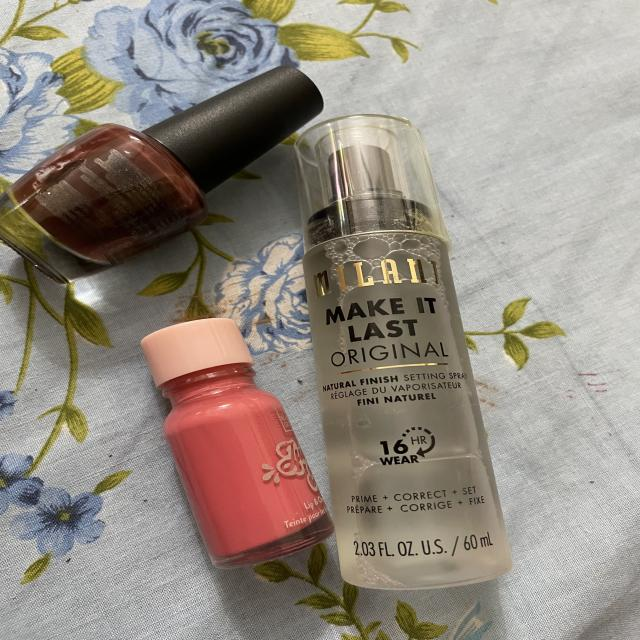Tint: (102, 302, 339, 580)
nail polish: (0, 43, 348, 299)
setting spray: (280, 114, 548, 616)
